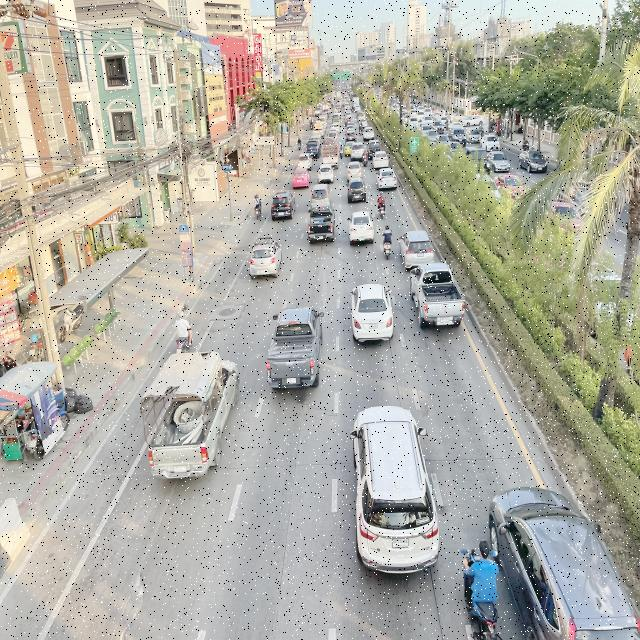bike: (459, 535, 502, 640), (172, 310, 195, 360), (381, 224, 393, 260), (376, 191, 387, 221), (252, 193, 262, 221)
car: (487, 481, 640, 640), (350, 405, 441, 576), (266, 303, 325, 392), (410, 262, 466, 330), (349, 283, 394, 343), (398, 230, 436, 272), (249, 236, 283, 281), (307, 204, 337, 243), (347, 210, 375, 245), (271, 190, 296, 220), (310, 183, 332, 208), (346, 178, 366, 203), (376, 168, 397, 191), (292, 167, 312, 189), (346, 160, 364, 181), (318, 163, 334, 184)
truck: (140, 351, 240, 481), (322, 137, 339, 169)
